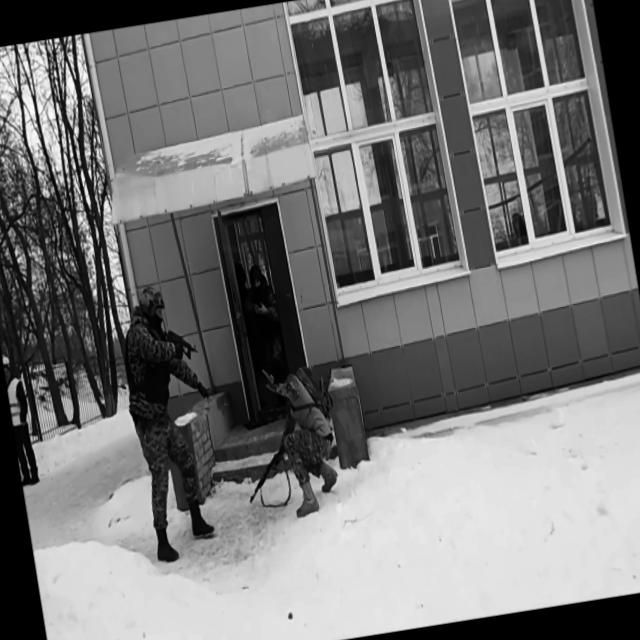gun: (240, 439, 302, 508), (149, 316, 201, 368)
person: (240, 262, 294, 409), (3, 358, 42, 489)
person with a gun: (110, 277, 237, 566), (228, 350, 347, 525)
